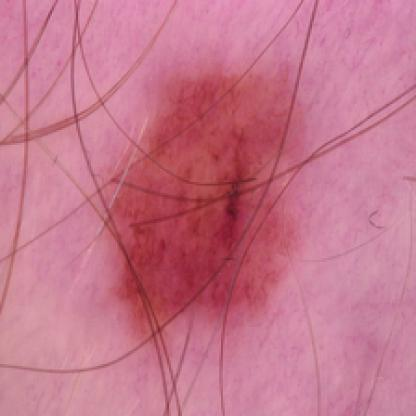benign: (117, 82, 297, 306)
